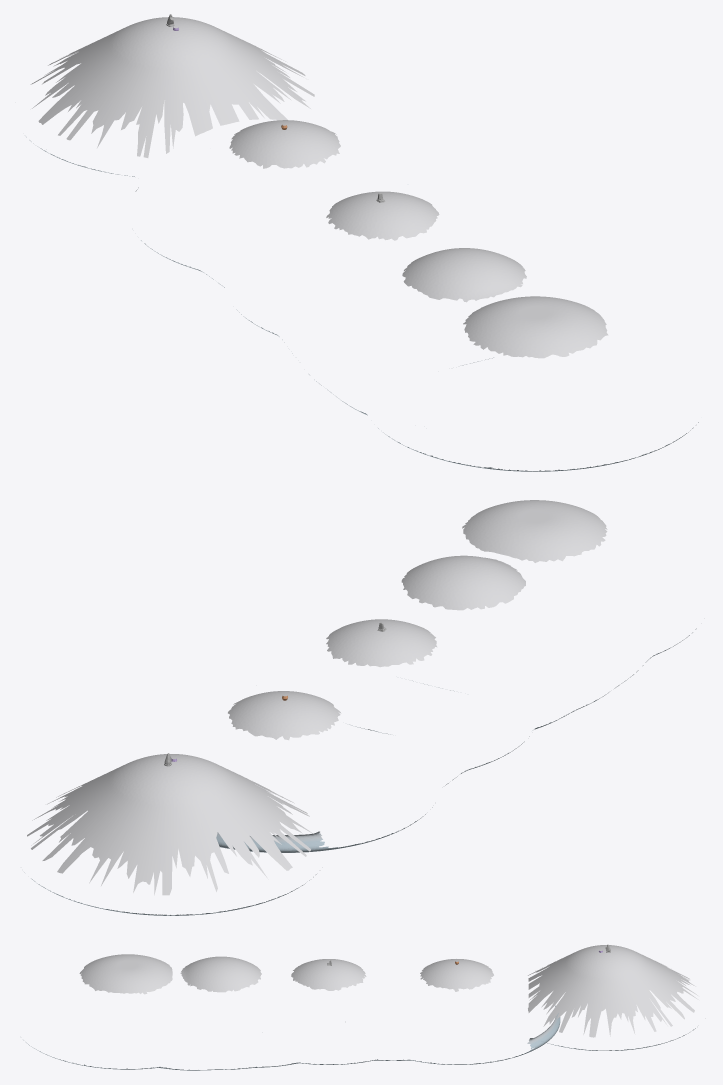
File: BstBaked.glb
3 renders of one model, top to bottom at view 1: azimuth 30°, elevation 25°; view 2: azimuth 150°, elevation 25°; view 3: azimuth 270°, elevation 25°, orthographic. The views are drawn at different scales.
Parts seen in each view (by area): view 1: BstBaked_terrain; view 2: BstBaked_terrain; view 3: BstBaked_terrain.
Part boxes in pixels (box(x1,y1,x2,y2)): BstBaked_terrain: box(26, 17, 698, 471); BstBaked_terrain: box(24, 500, 696, 915); BstBaked_terrain: box(23, 945, 698, 1070).
Size of what is drawn, in the model's own units: 52.6 by 21.11 by 161.
